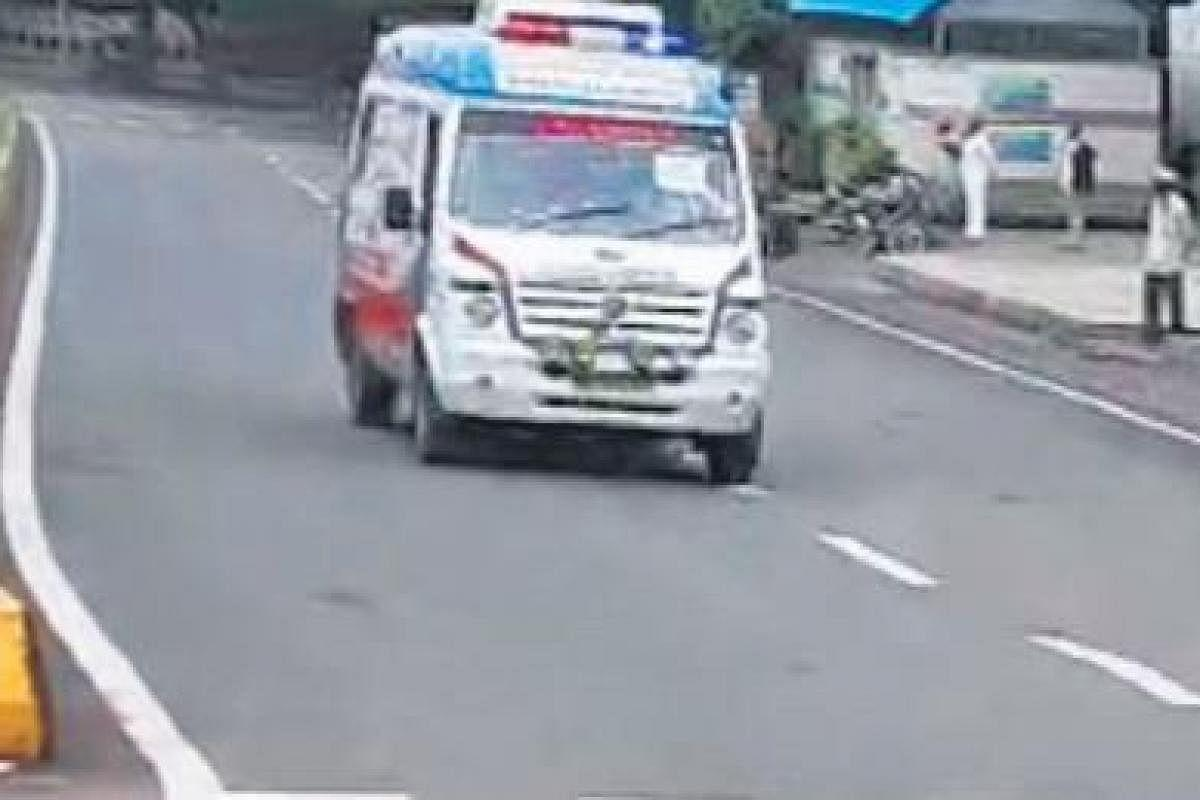ER: (332, 0, 774, 483)
